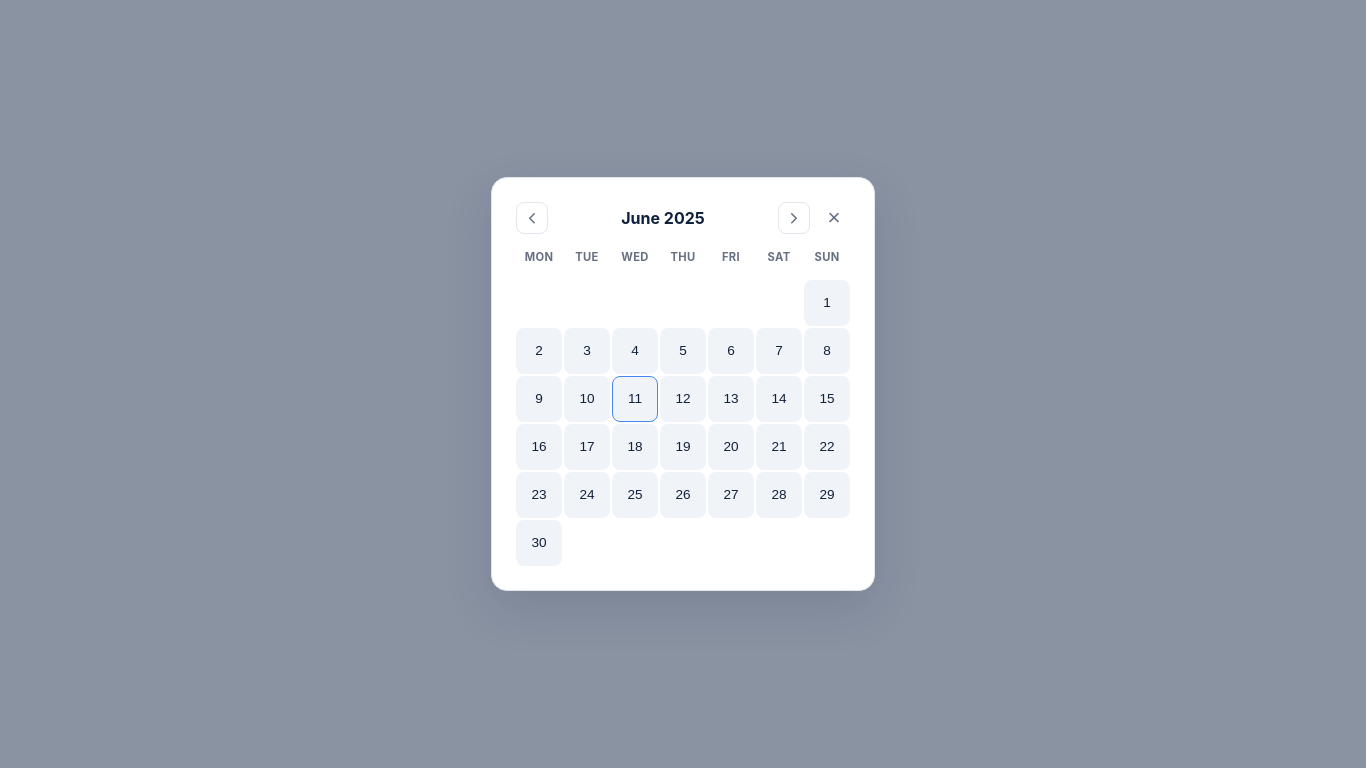
Test: ApplicationCalendarPopover › 8. previous and next month navigation update the displayed month
The width and height of the screenshot is (1366, 768).
Expected: the heading with class "calendar-title" reads "June 2025", top-left (621, 208), bottom-right (705, 228)
Click the button named "Next month" at {"x": 794, "y": 218}, box top-left (778, 202), bottom-right (810, 234)
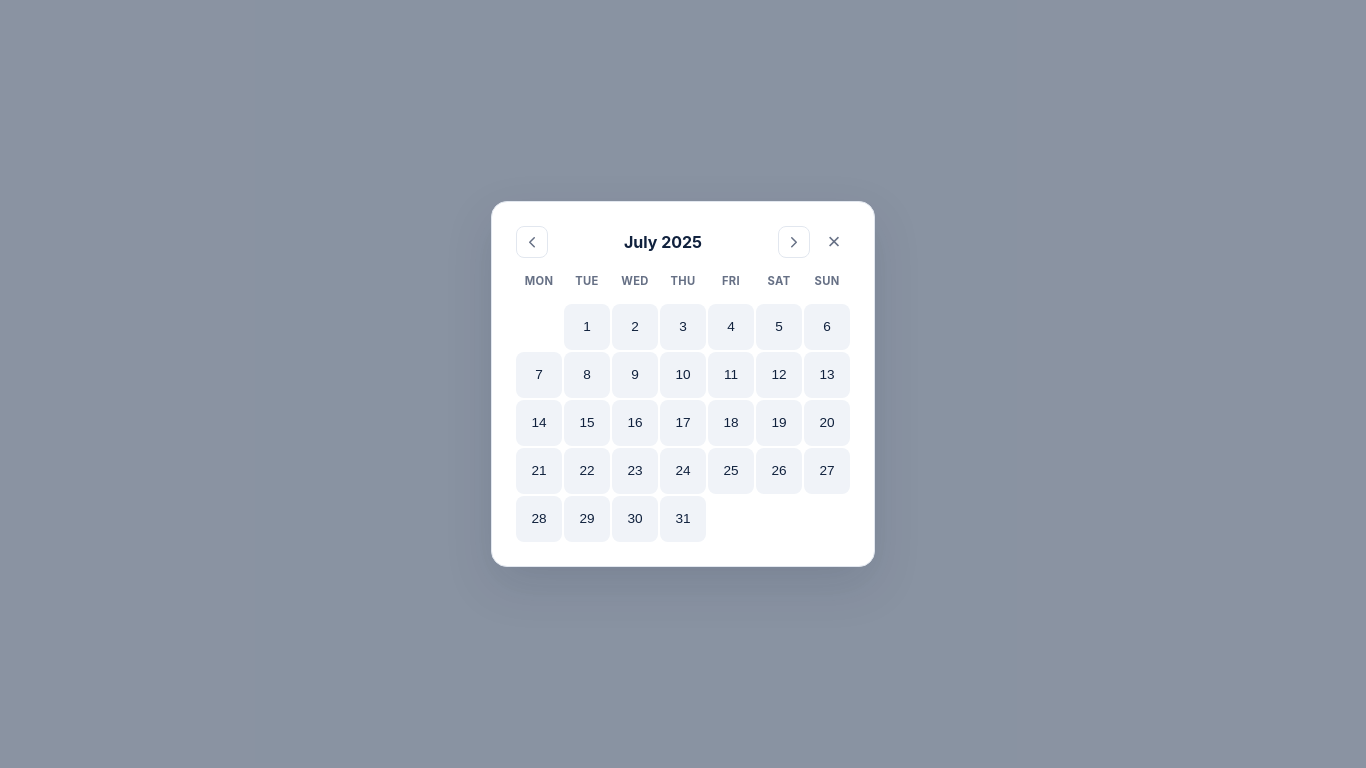
Now the heading with class "calendar-title" reads "July 2025", box top-left (624, 232), bottom-right (702, 252)
Click the button named "Previous month" at {"x": 532, "y": 242}, box top-left (516, 226), bottom-right (548, 258)
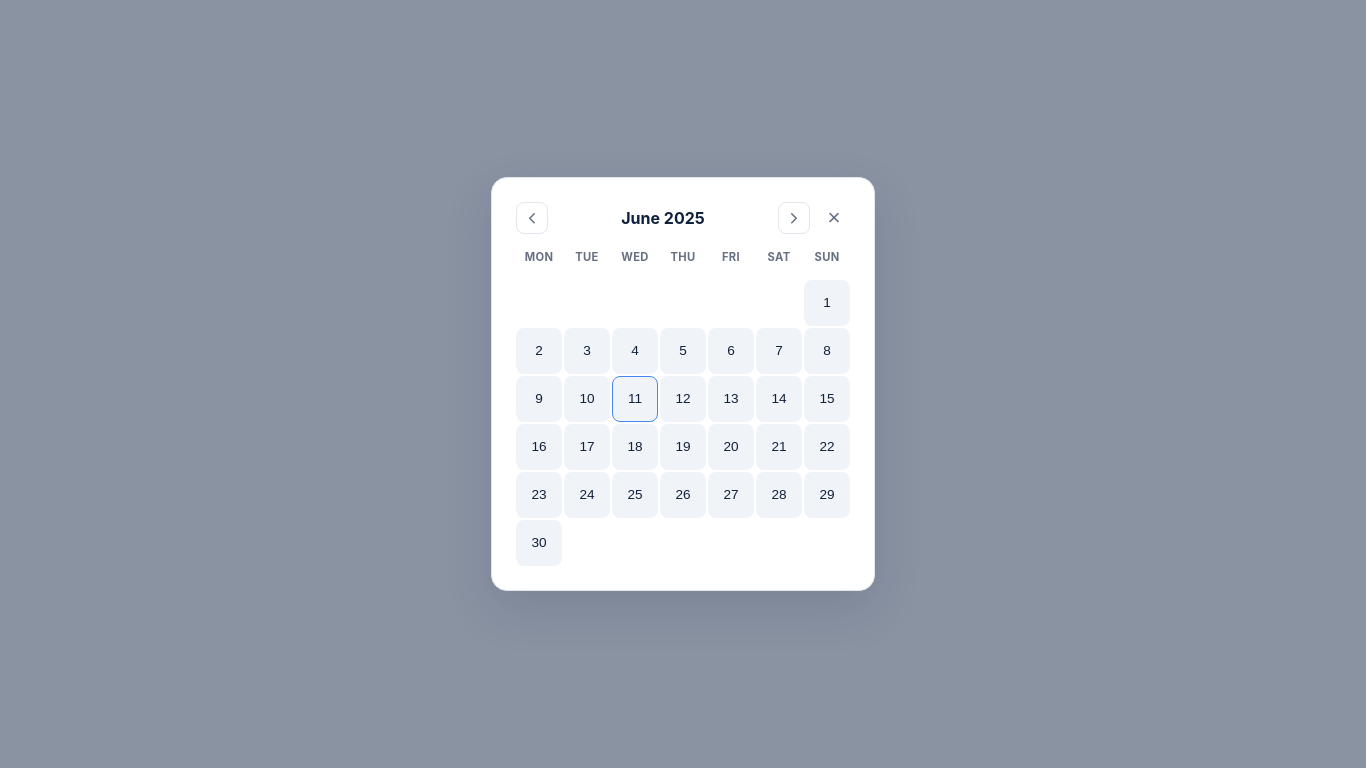
Click the button named "Previous month" at {"x": 532, "y": 218}, box top-left (516, 202), bottom-right (548, 234)
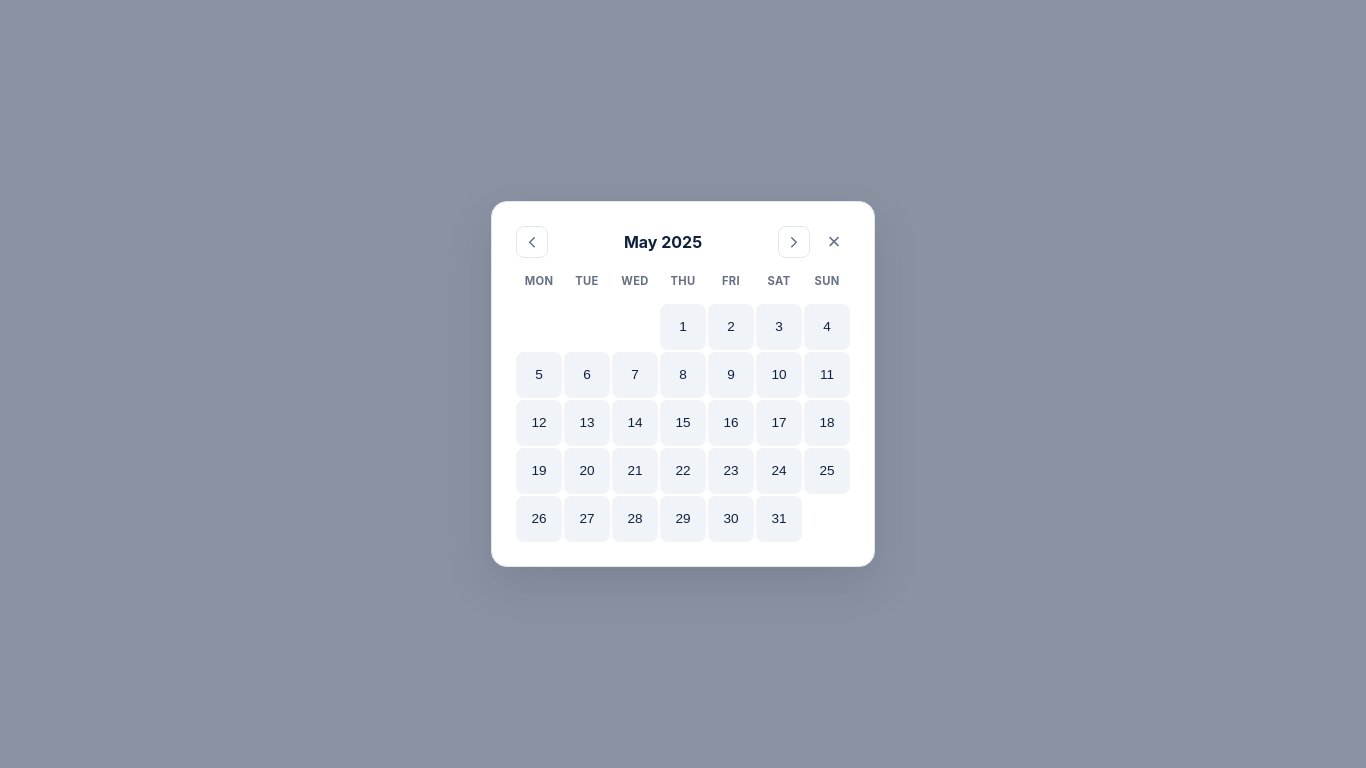
Now the heading with class "calendar-title" reads "May 2025", box top-left (624, 232), bottom-right (702, 252)
